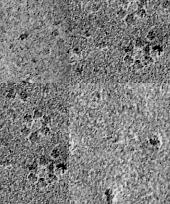rosette_object: (20, 110, 52, 142), (124, 39, 153, 71), (28, 157, 57, 189), (116, 0, 148, 24)
